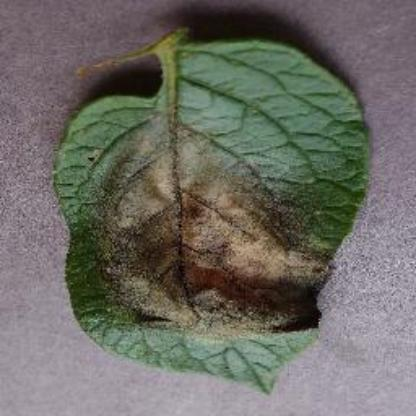Late-Blight: (47, 17, 370, 405)
